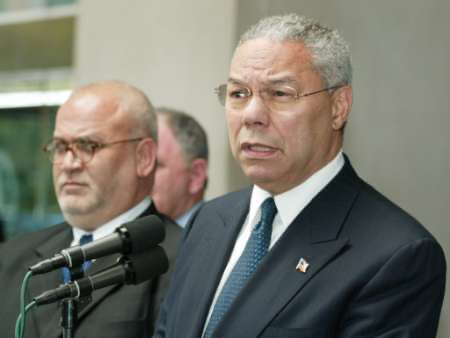Face: (219, 48, 328, 188), (43, 93, 133, 235), (139, 110, 213, 225)
